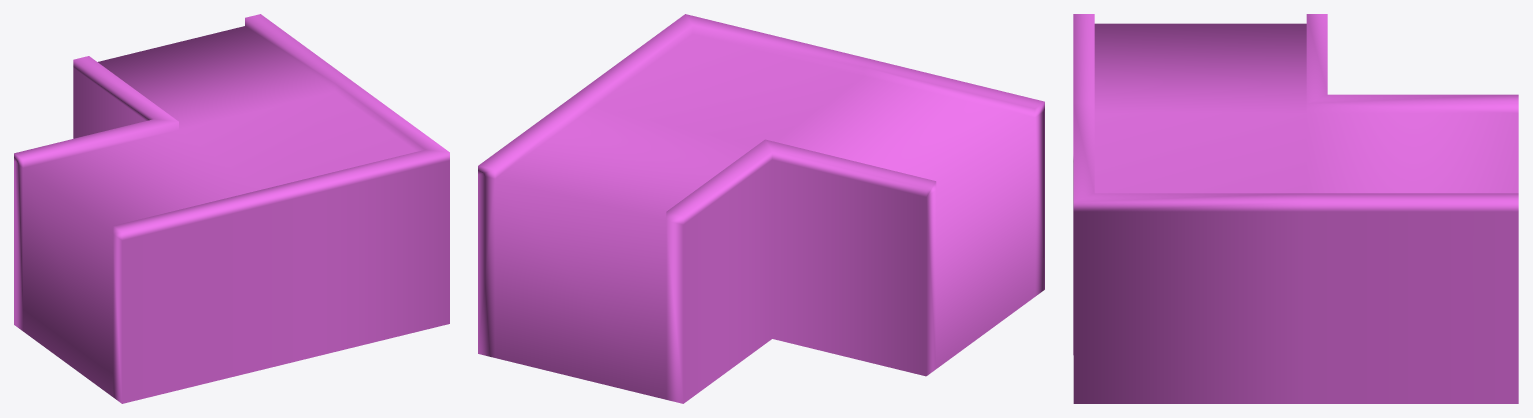
File: RD_Corner1.fbx
3 renders of one model, left to right at view 1: azimuth 30°, elevation 25°; view 2: azimuth 150°, elevation 25°; view 3: azimuth 270°, elevation 25°, orthographic. The views are drawn at different scales.
Parts seen in each view (by area): view 1: Mesh; view 2: Mesh; view 3: Mesh.
Boxes of the visible parts, x1,y1,x2,y2 form: Mesh: (14,14,449,403); Mesh: (478,14,1044,403); Mesh: (1073,14,1518,403).
Size of the model in its own units: 840 by 420 by 840.
